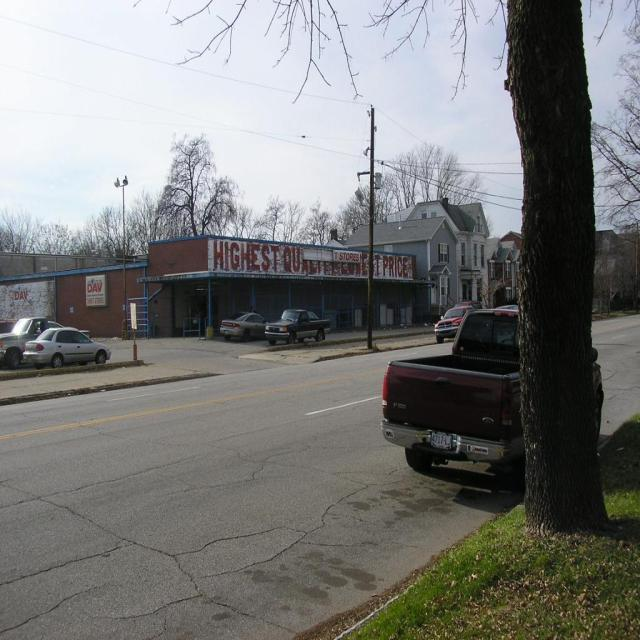car: (24, 320, 107, 369), (264, 305, 330, 347)
